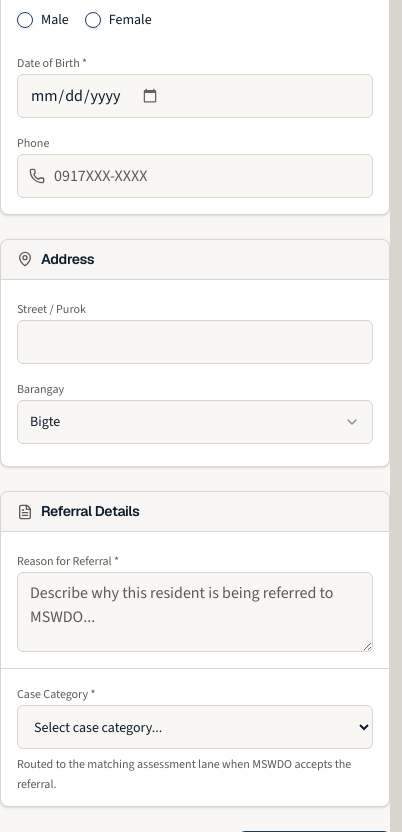
CoordinatorReferralFormPage barangay options › starts on the coordinator’s own barangay but still allows any of the 13
The image size is (402, 832).
(page scrolled)
Click the dropdown named "Barangay" at point(45, 422), box [17, 400, 373, 444]
(page scrolled)
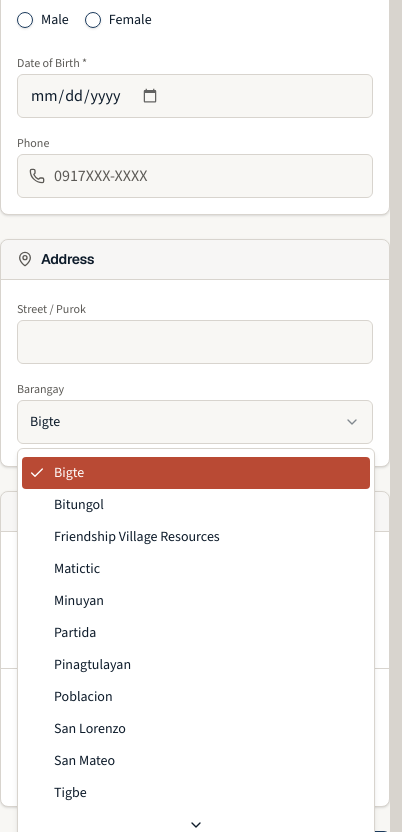
Click the option "Tigbe" at point(70, 792), box [54, 783, 87, 802]
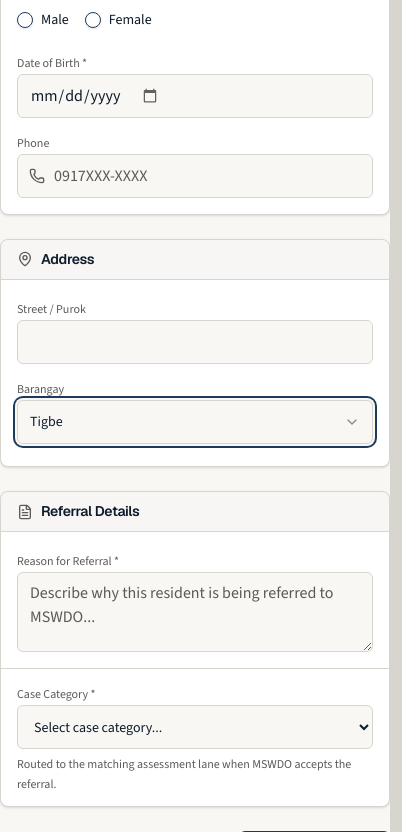
Result: the dropdown named "Barangay" reads "Tigbe" at [17, 400, 373, 444]
